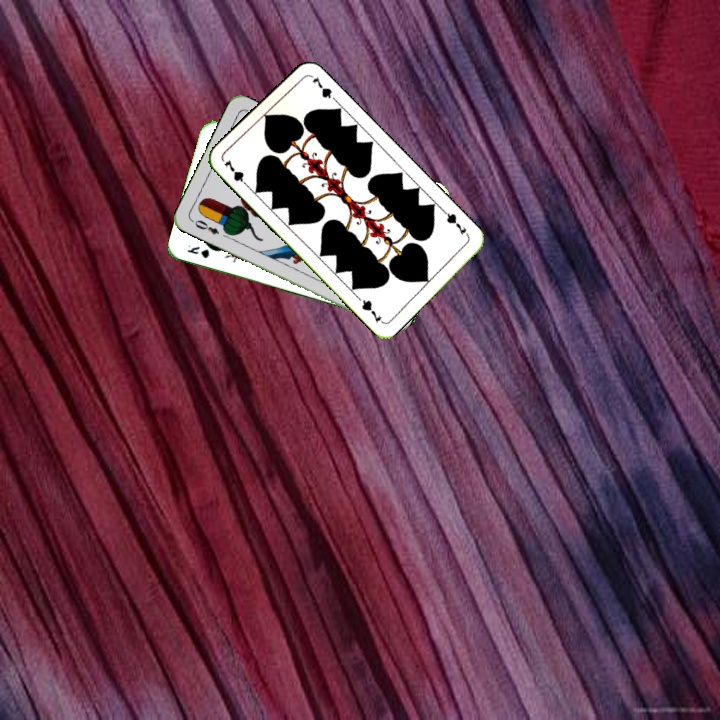EO: (188, 216, 222, 237)
G7: (220, 155, 252, 191), (439, 207, 471, 239)
GK: (183, 241, 212, 261)
